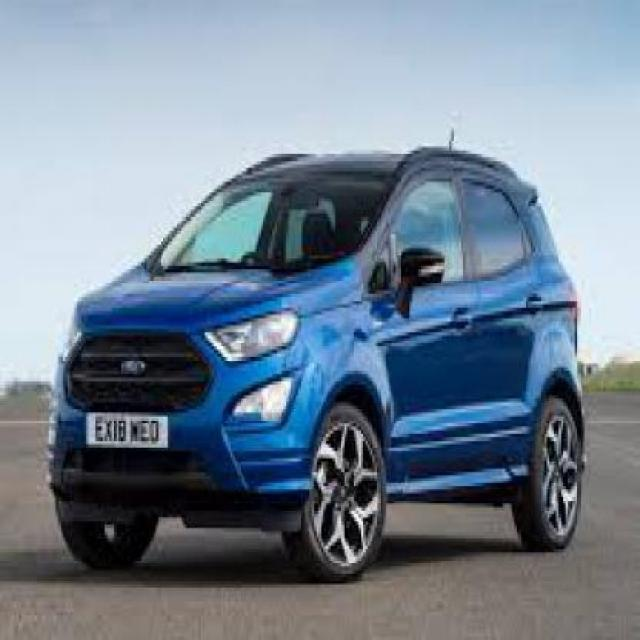vehicle: (26, 108, 607, 588)
